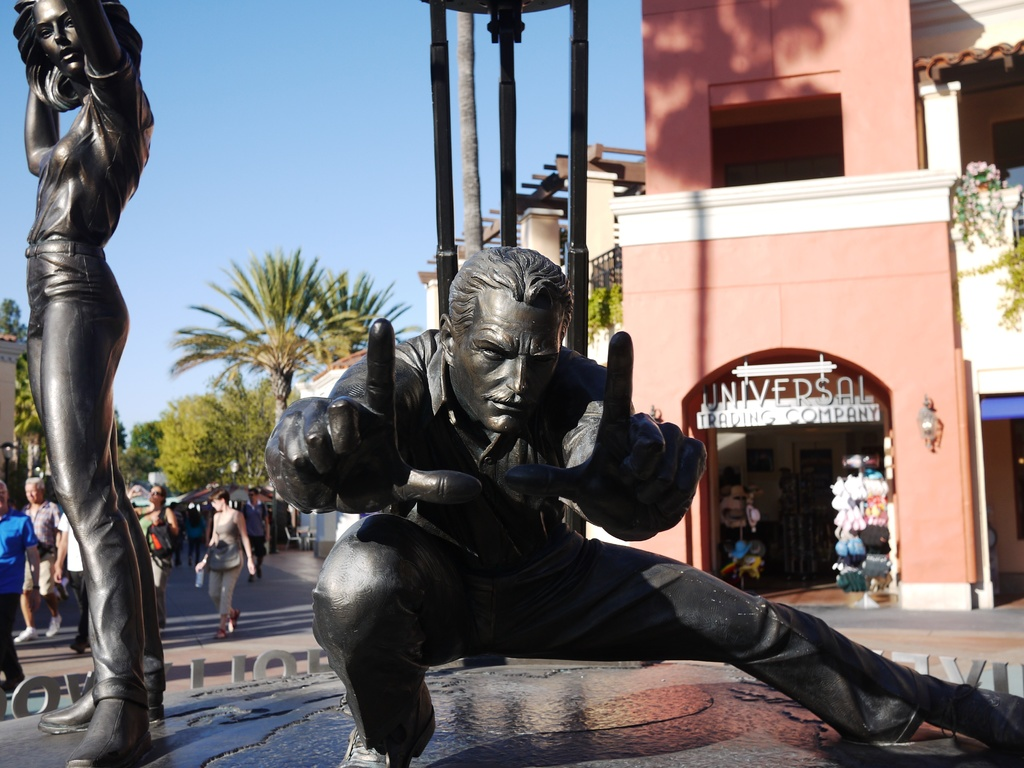Tree: (167, 254, 374, 552), (0, 296, 49, 439), (130, 417, 161, 469), (112, 405, 131, 444)
